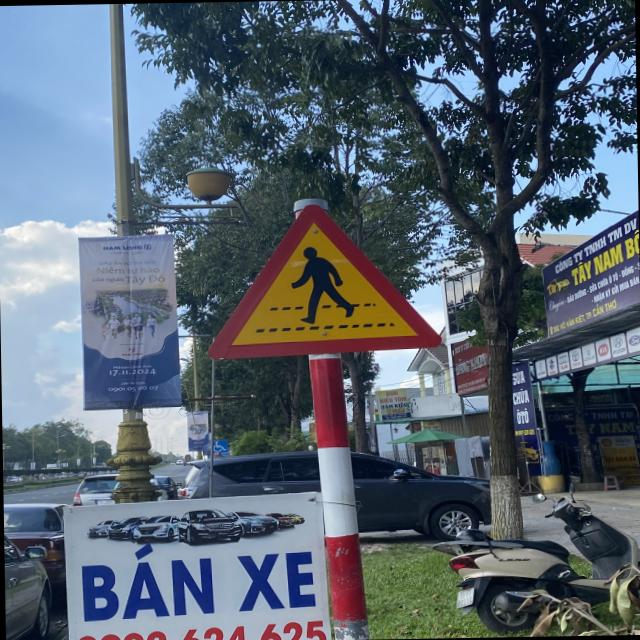Duong_Nguoi_Di_Bo_Sang_Ngang: (205, 201, 436, 356)
